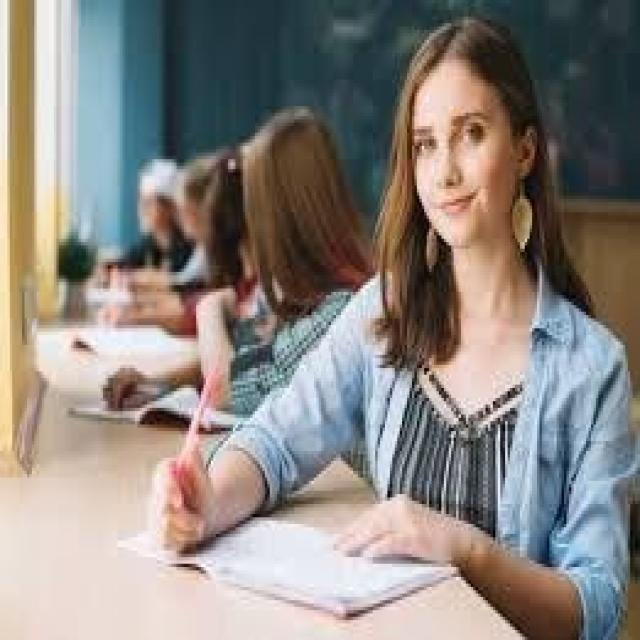person: (159, 16, 635, 624), (98, 106, 373, 438), (174, 146, 285, 391), (110, 132, 192, 308), (152, 149, 218, 302)
